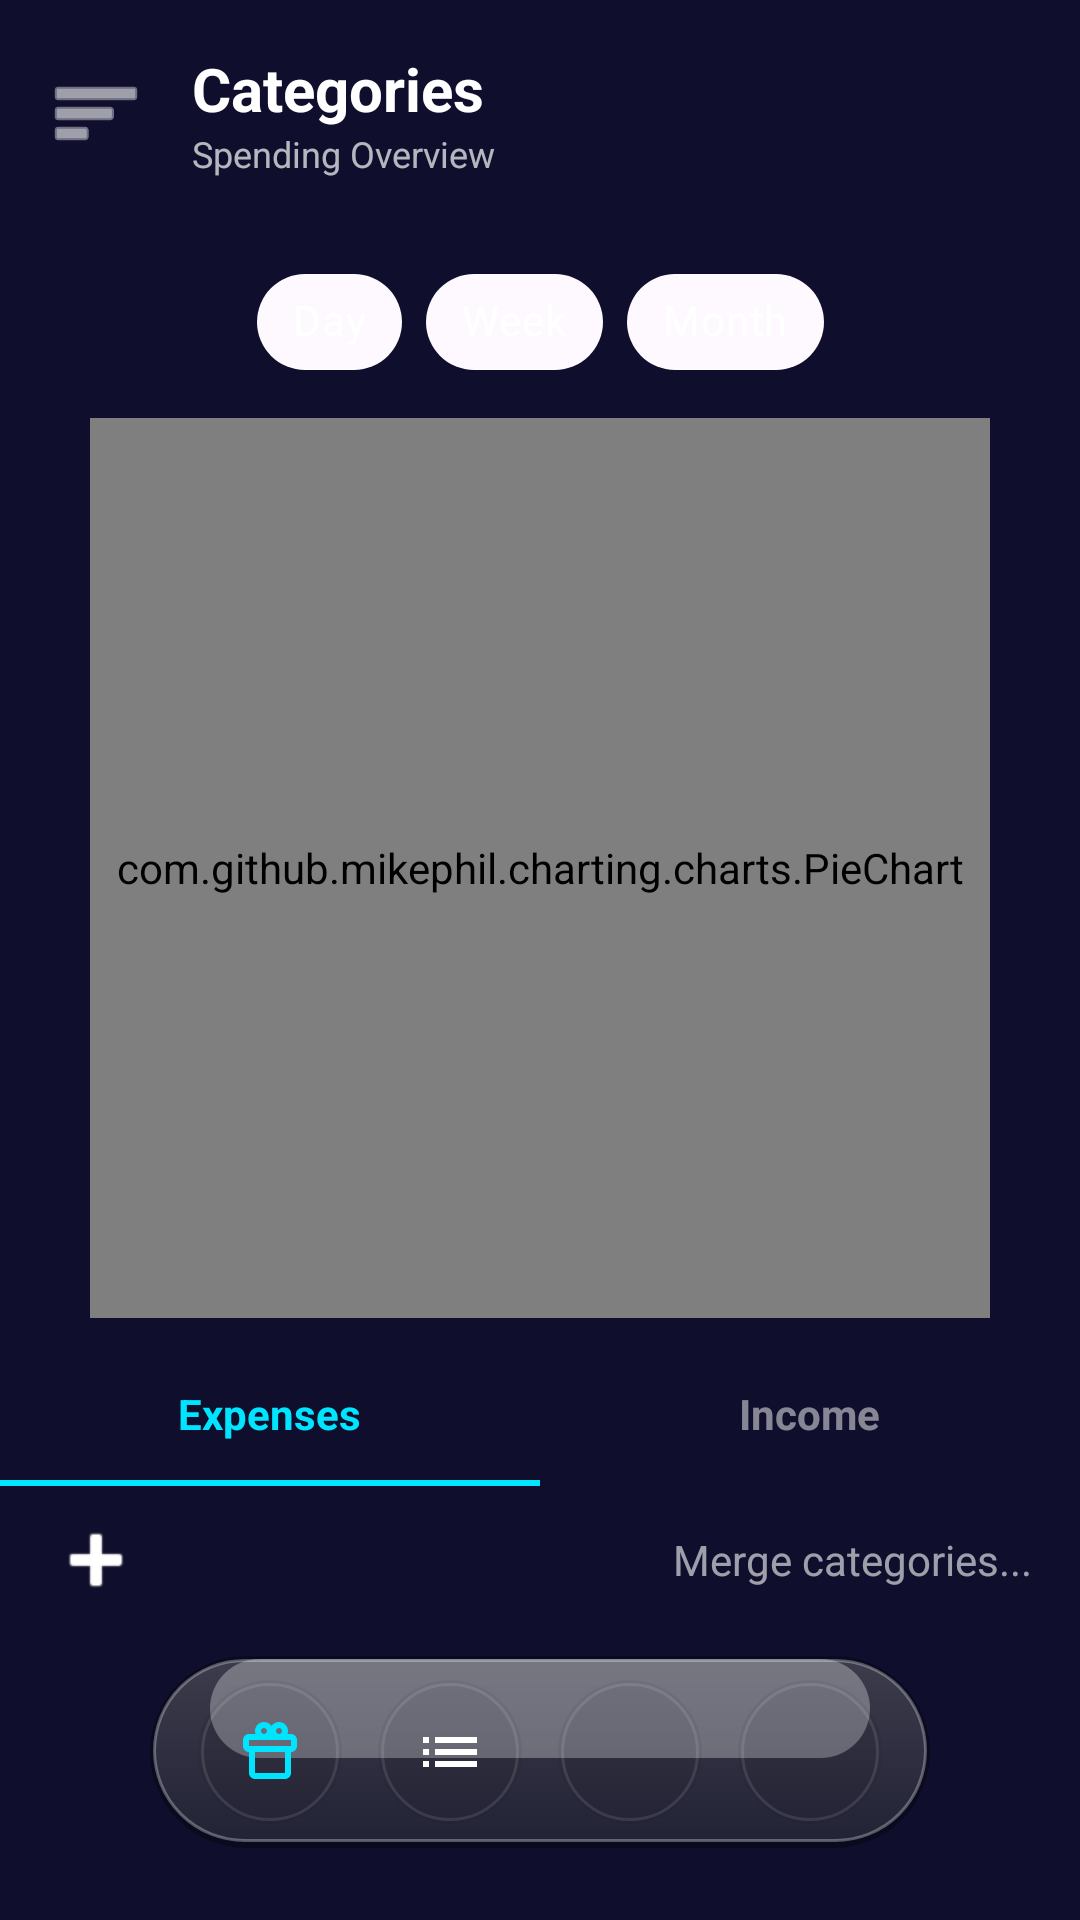

Point at icon controls on the screen. Image size 1080x1920, points as point (x, y).
add: point (96, 1560)
gift: point (270, 1752)
menu: point (450, 1752)
sort by size: point (96, 113)
